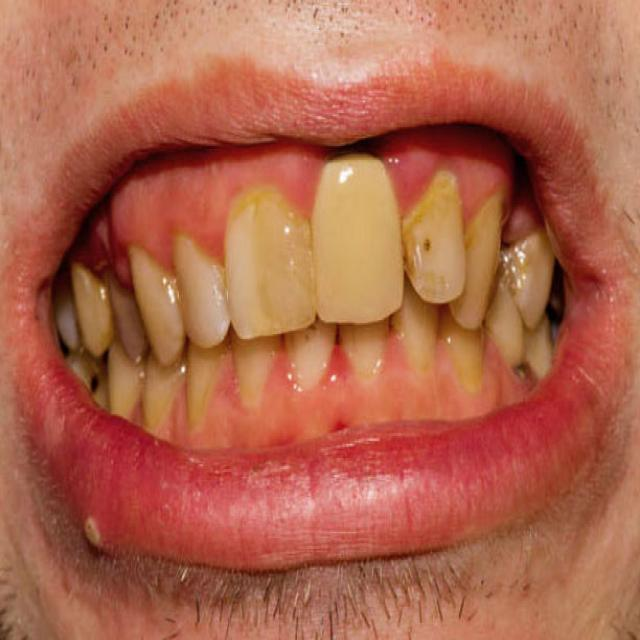caries: (80, 364, 107, 409), (509, 353, 530, 388)
